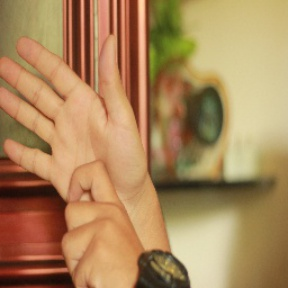R: (1, 28, 142, 273)
